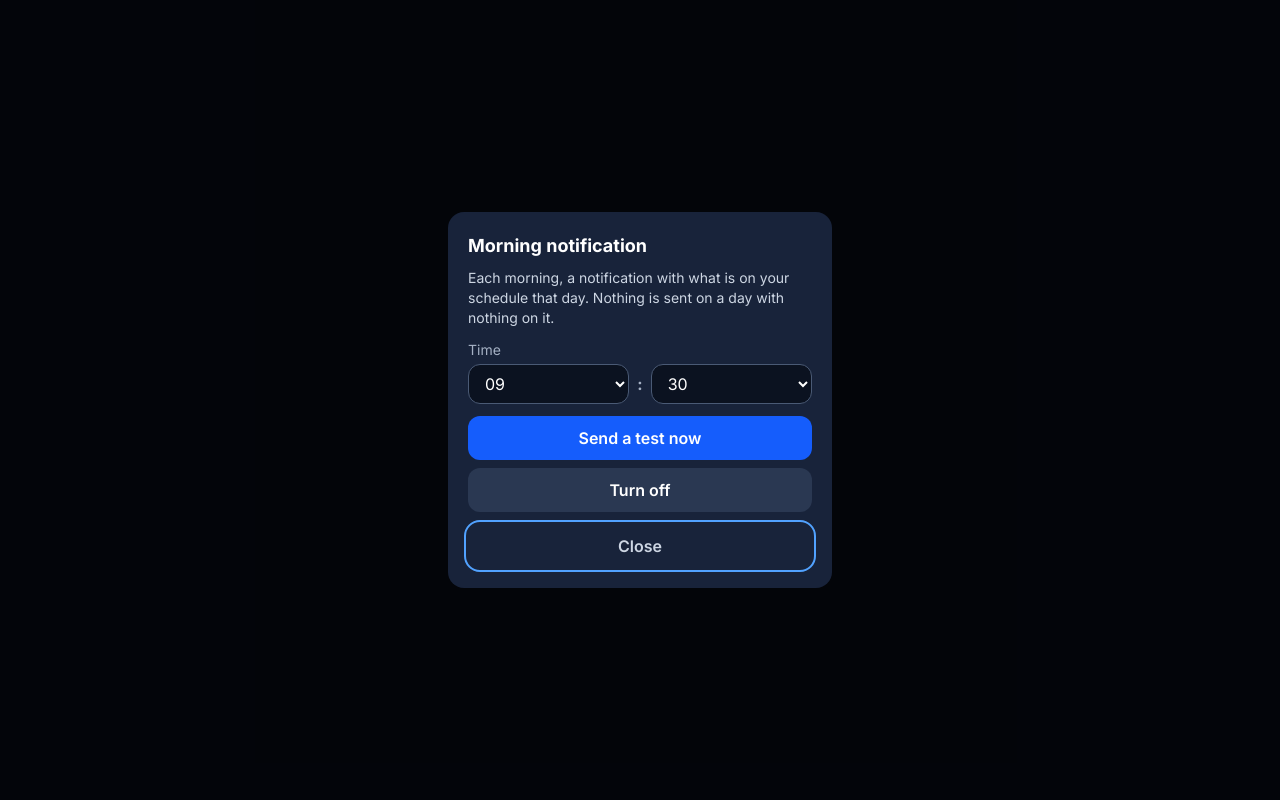
Scenario: on › a test says it was sent
Click the button "Send a test now": coordinates (640, 438) [468,416,812,460]
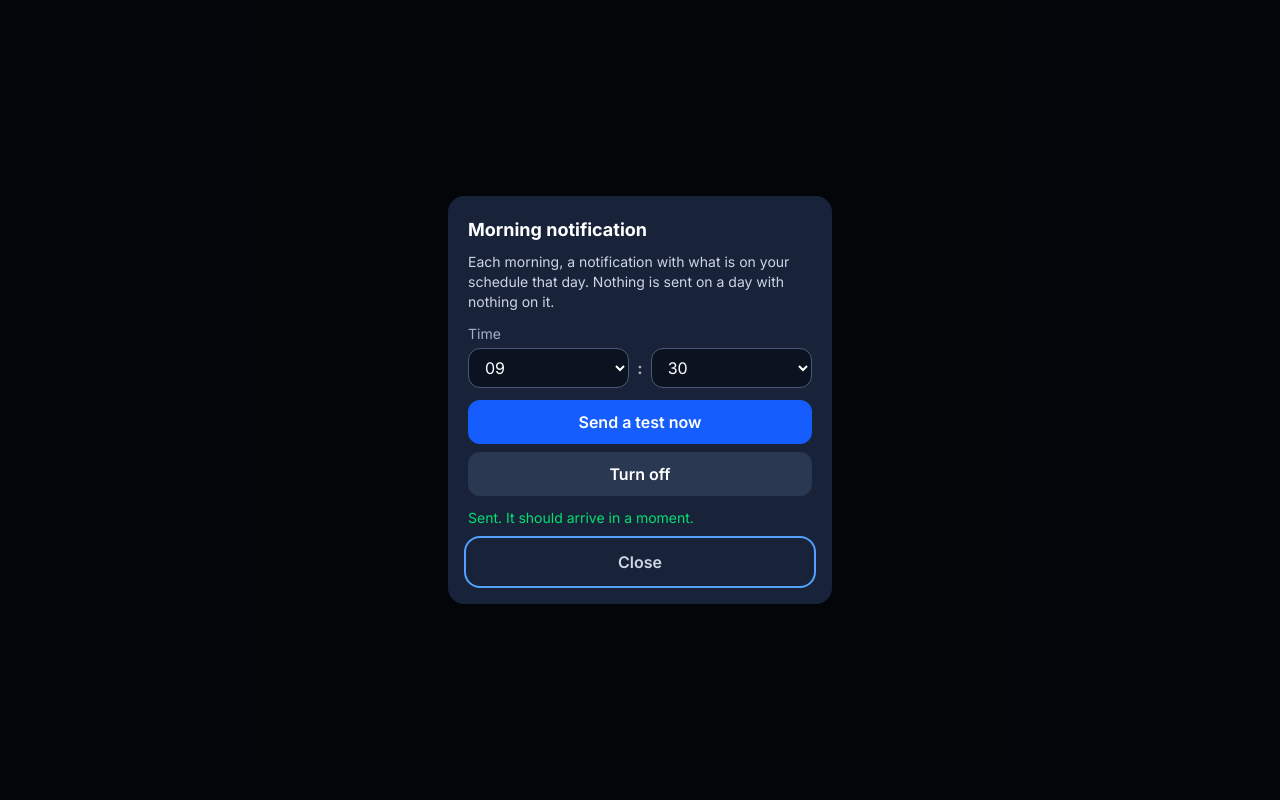
expect the message reads "Sent. It should arrive in a moment.": met, box [468,509,694,526]
